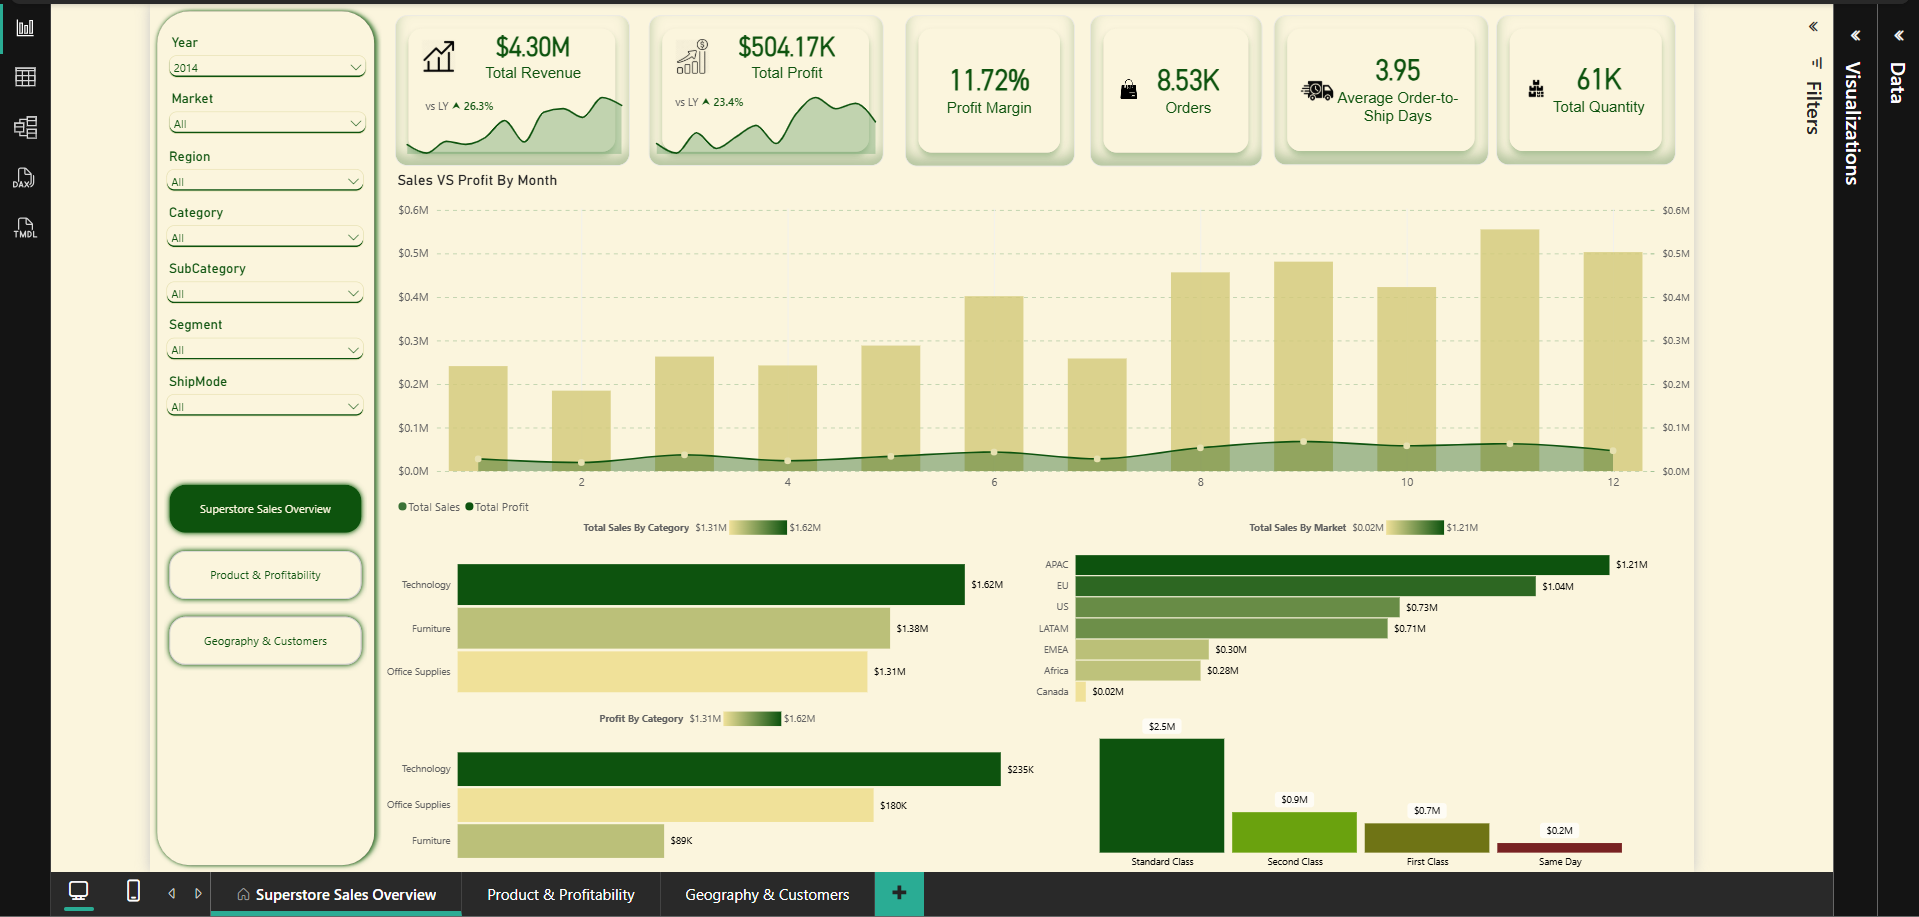

This screenshot's page, from the dashboard's own definition file:
{"tool":"powerbi","page":{"name":"Superstore Sales Overview","canvas":[1920,1080],"ordinal":0},"visuals":[{"type":"cardVisual","fields":{"Data":["dw FactSales.Total Sales"]},"box":[304.2,14.4,291.8,187.3],"z":0},{"type":"lineChart","fields":{"Y":["dw FactSales.Total Sales"],"Category":["dw DimDate.Month"]},"box":[270,108,325.8,79.2],"z":1000},{"type":"cardVisual","fields":{"Data":["dw FactSales.Total Profit"]},"box":[620.9,14.4,291.8,187.3],"z":2000},{"type":"lineChart","fields":{"Y":["dw FactSales.Total Profit"],"Category":["dw DimDate.Month"]},"box":[595.7,108,316.8,79.2],"z":3000},{"type":"cardVisual","fields":{"Data":["dw FactSales.Profit Margin %"]},"box":[939.5,14.4,291.8,187.3],"z":4000},{"type":"cardVisual","fields":{"Data":["dw FactSales.Orders"]},"box":[1279.6,14.4,291.8,187.3],"z":5000},{"type":"cardVisual","fields":{"Data":["dw FactSales.Total Quantity"]},"box":[1607.2,14.4,291.8,187.3],"z":6000},{"type":"lineChart","title":" Sales VS Profit By Month","fields":{"Category":["dw DimDate.Month"],"Y":["dw FactSales.Total Sales"],"Y2":["dw FactSales.Total Profit"]},"box":[304.2,214.2,1591,430.1],"z":7000},{"type":"barChart","fields":{"Y":["dw FactSales.Total Sales"],"Category":["dw DimGeography.Market"]},"box":[1106.9,644.3,813.5,232.2],"z":8000},{"type":"shape","box":[0,0,288,1079.9],"z":9000},{"type":"slicer","fields":{"Values":["dw DimDate.Year"]},"box":[18,37.8,255.6,70.2],"z":10000},{"type":"slicer","fields":{"Values":["dw DimGeography.Market"]},"box":[18,108,255.6,70.2],"z":11000},{"type":"slicer","fields":{"Values":["dw DimGeography.Region"]},"box":[16.2,178.2,255.6,70.2],"z":12000},{"type":"slicer","fields":{"Values":["dw DimProduct.Category"]},"box":[16.2,248.4,255.6,70.2],"z":13000},{"type":"slicer","fields":{"Values":["dw DimProduct.SubCategory"]},"box":[16.2,318.6,255.6,70.2],"z":14000},{"type":"slicer","fields":{"Values":["dw DimCustomer.Segment"]},"box":[16.2,388.8,255.6,70.2],"z":15000},{"type":"slicer","fields":{"Values":["dw DimShipping.ShipMode"]},"box":[16.2,458.9,255.6,66.6],"z":16000},{"type":"barChart","fields":{"Category":["dw DimProduct.Category"],"Y":["dw FactSales.Total Profit"]},"box":[271.8,876.5,813.5,203.4],"z":17000},{"type":"barChart","fields":{"Y":["dw FactSales.Total Sales"],"Category":["dw DimProduct.Category"]},"box":[271.8,646.1,813.5,232.2],"z":18000},{"type":"lineStackedColumnComboChart","fields":{"Category":["dw DimShipping.ShipMode"],"Y":["dw FactSales.Total Sales"]},"box":[1085.3,863.9,813.5,216],"z":19000},{"type":"pageNavigator","box":[17,590.4,253.5,238.2],"z":20000}]}

Visuals, with their boxes on the page's 1920x1080 design canvas (x1, y1, x2, y2). These are canvas units, not pixel positions in the 1919x917 screenshot, which may show the page scaled, cropped or inside an application window:
cardVisual - dw FactSales.Total Sales: <box>304,14,596,202</box>
lineChart - dw FactSales.Total Sales x dw DimDate.Month: <box>270,108,596,187</box>
cardVisual - dw FactSales.Total Profit: <box>621,14,913,202</box>
lineChart - dw FactSales.Total Profit x dw DimDate.Month: <box>596,108,912,187</box>
cardVisual - dw FactSales.Profit Margin %: <box>940,14,1231,202</box>
cardVisual - dw FactSales.Orders: <box>1280,14,1571,202</box>
cardVisual - dw FactSales.Total Quantity: <box>1607,14,1899,202</box>
" Sales VS Profit By Month" lineChart: <box>304,214,1895,644</box>
barChart - dw FactSales.Total Sales x dw DimGeography.Market: <box>1107,644,1920,876</box>
shape: <box>0,0,288,1080</box>
slicer - dw DimDate.Year: <box>18,38,274,108</box>
slicer - dw DimGeography.Market: <box>18,108,274,178</box>
slicer - dw DimGeography.Region: <box>16,178,272,248</box>
slicer - dw DimProduct.Category: <box>16,248,272,319</box>
slicer - dw DimProduct.SubCategory: <box>16,319,272,389</box>
slicer - dw DimCustomer.Segment: <box>16,389,272,459</box>
slicer - dw DimShipping.ShipMode: <box>16,459,272,526</box>
barChart - dw DimProduct.Category x dw FactSales.Total Profit: <box>272,876,1085,1080</box>
barChart - dw FactSales.Total Sales x dw DimProduct.Category: <box>272,646,1085,878</box>
lineStackedColumnComboChart - dw DimShipping.ShipMode x dw FactSales.Total Sales: <box>1085,864,1899,1080</box>
pageNavigator: <box>17,590,270,829</box>
